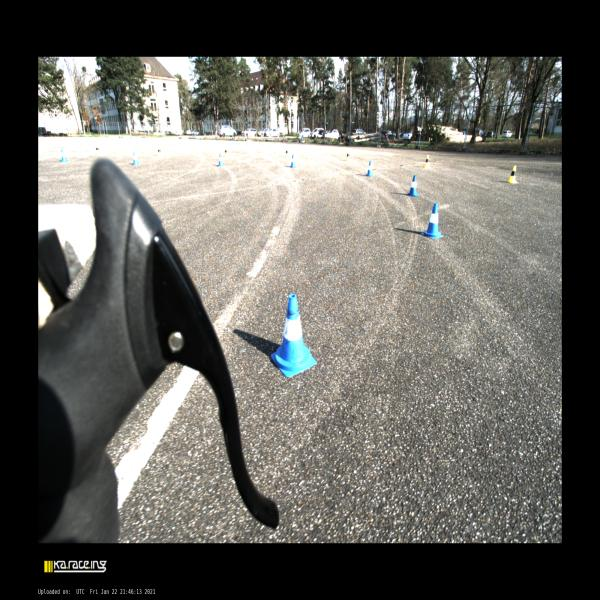blue_cone: (270, 294, 317, 378), (421, 203, 444, 239), (408, 175, 418, 197), (366, 161, 374, 177), (133, 152, 140, 166), (61, 148, 68, 162), (217, 154, 224, 166), (290, 154, 296, 168)
yellow_cone: (508, 166, 518, 184), (424, 156, 431, 169), (345, 151, 350, 161)
